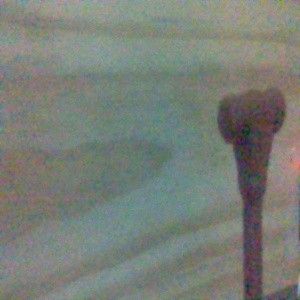palu: (215, 84, 286, 300)
